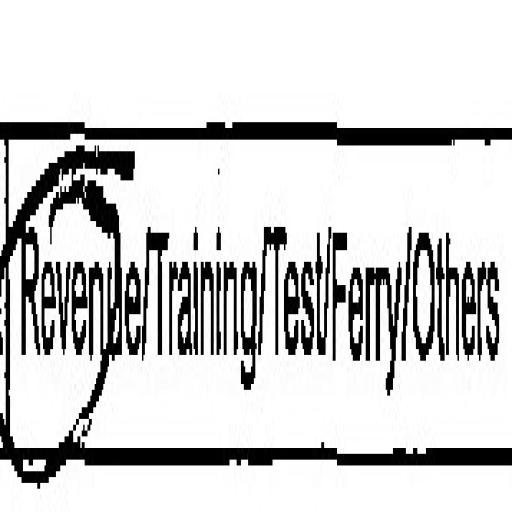check: (0, 35, 147, 512)
